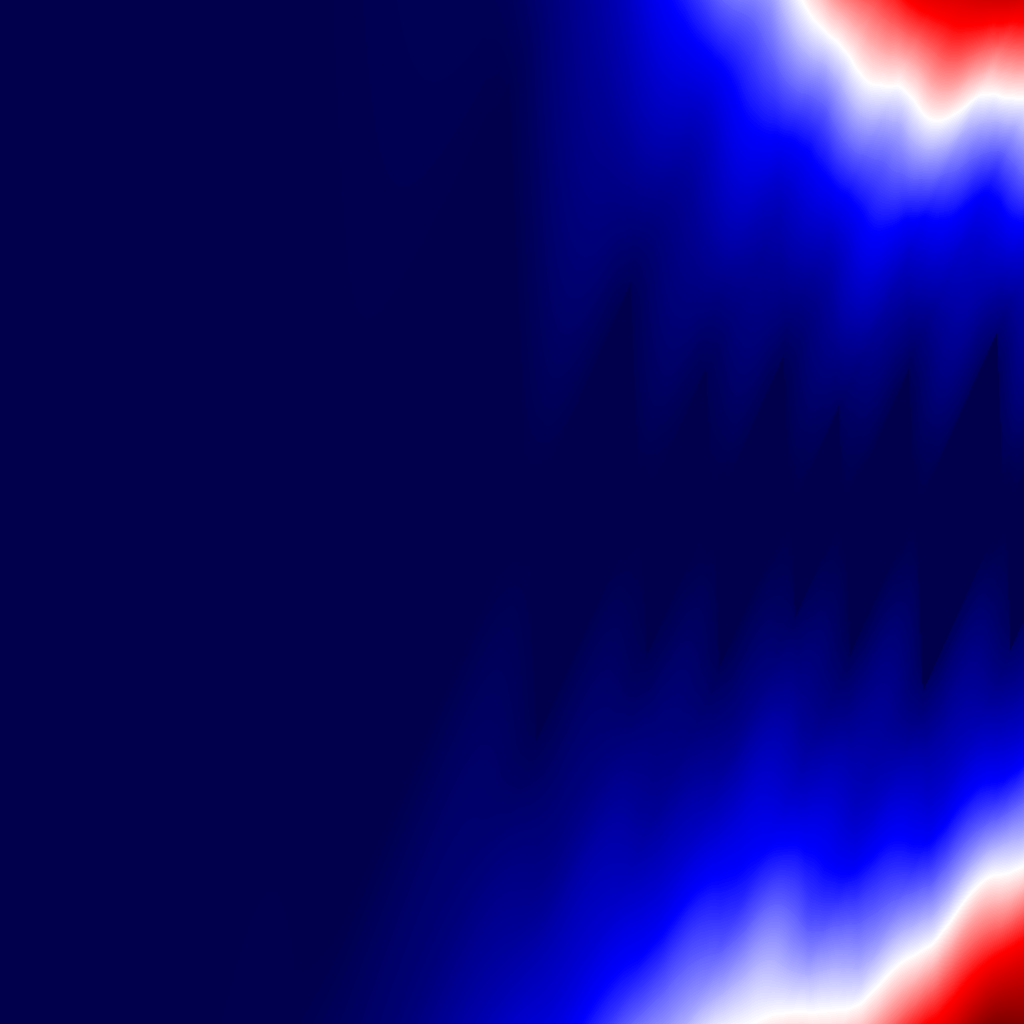diamond: (318, 81, 529, 943), (530, 280, 643, 744), (919, 330, 1008, 694), (716, 354, 793, 670), (644, 365, 716, 659), (847, 366, 918, 658), (794, 403, 847, 621)
